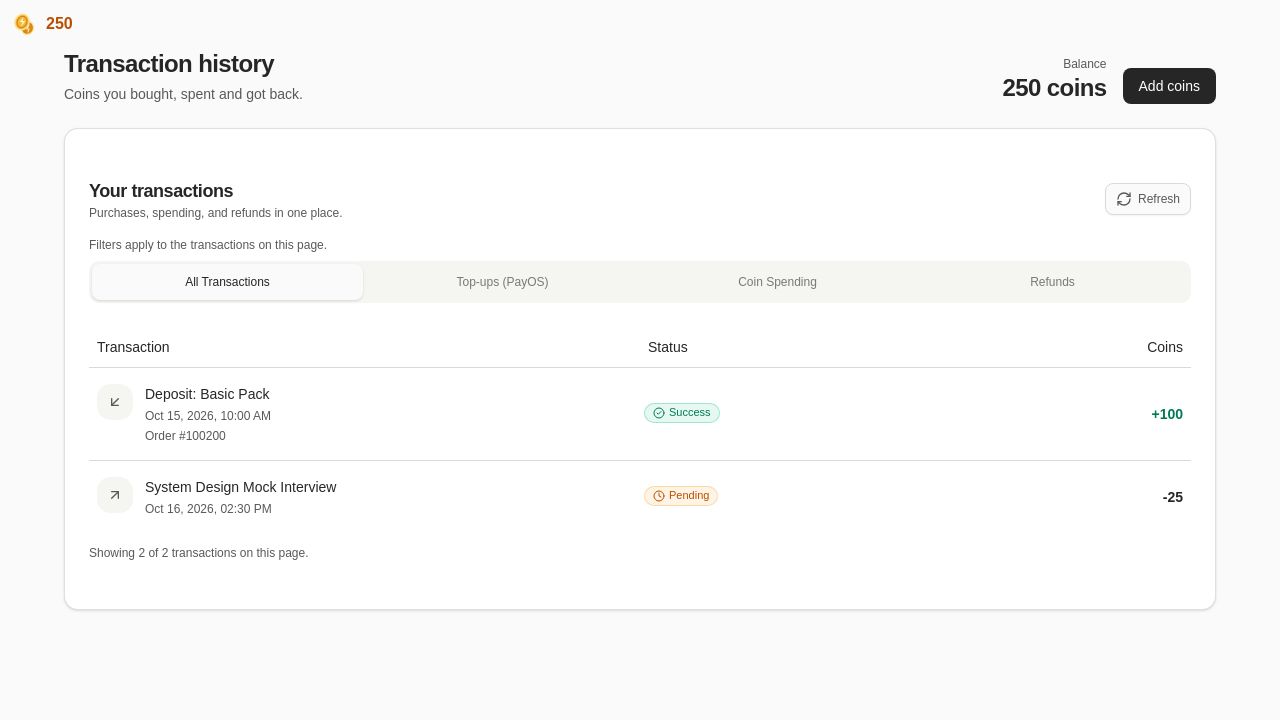
Test case: BillingOverview › loads and displays wallet balance, packages, and transactions
Expected: the text "250" is shown, [46,12,73,36]
Expected: the element named "Coin balance" shows "250 coins", [1002,74,1106,101]
Click the button named "Buy coins" at (24, 24), box [0,0,1279,48]
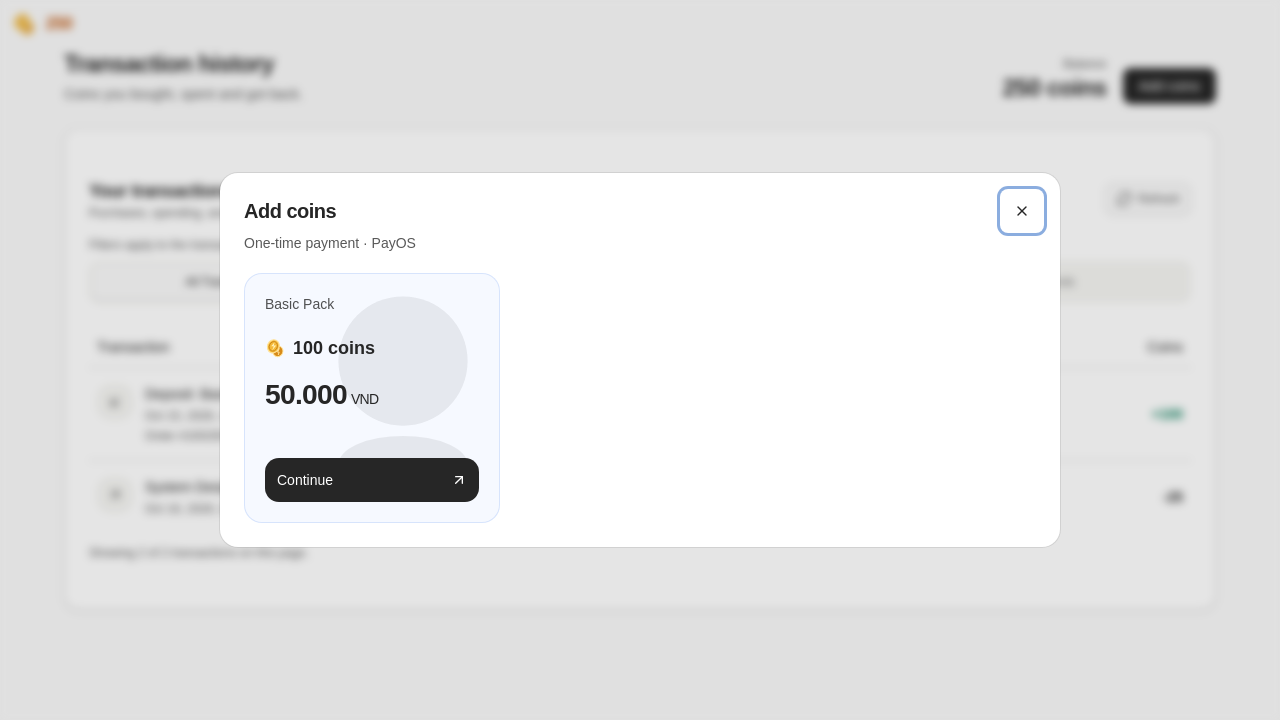
Now the heading "Basic Pack" is shown, box [265,296,334,312]
